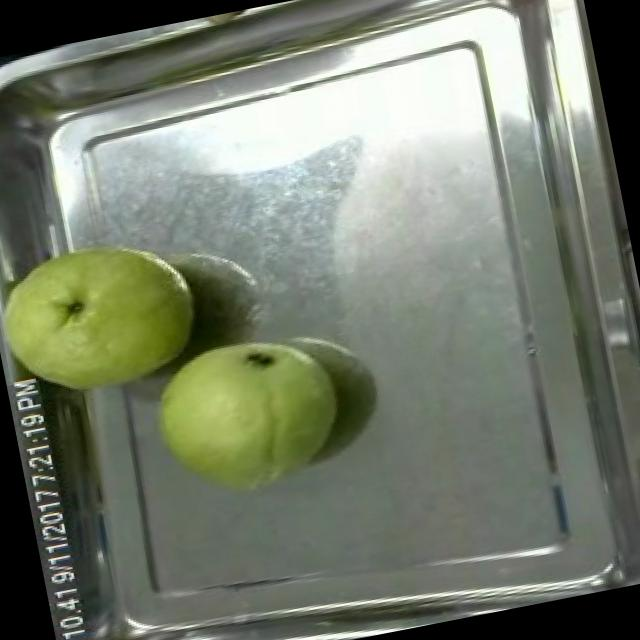Fruit: (134, 312, 360, 517), (0, 216, 217, 416)
